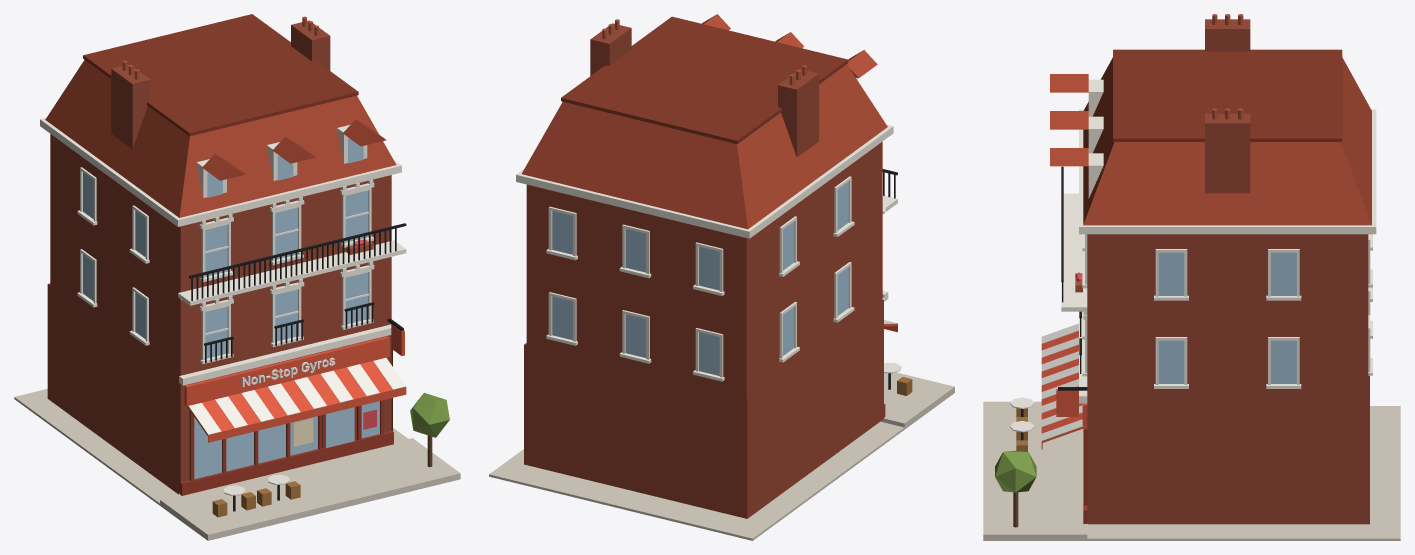
The model's file is Dukkan_nonstop_gyros_Hafif.fbx.
The picture shows the model from 3 angles, left to right: view 1: azimuth 30°, elevation 25°; view 2: azimuth 150°, elevation 25°; view 3: azimuth 270°, elevation 25°; orthographic projection. The views are drawn at different scales.
Visible parts, largest first — view 1: Dukkan_nonstop_gyros_Hafif; view 2: Dukkan_nonstop_gyros_Hafif; view 3: Dukkan_nonstop_gyros_Hafif.
Part boxes in pixels (x1,y1,x2,y2): Dukkan_nonstop_gyros_Hafif: [14, 14, 460, 540]; Dukkan_nonstop_gyros_Hafif: [489, 14, 954, 540]; Dukkan_nonstop_gyros_Hafif: [983, 14, 1400, 540].
Size of the model in its own units: 9.72 by 14.02 by 12.86.
